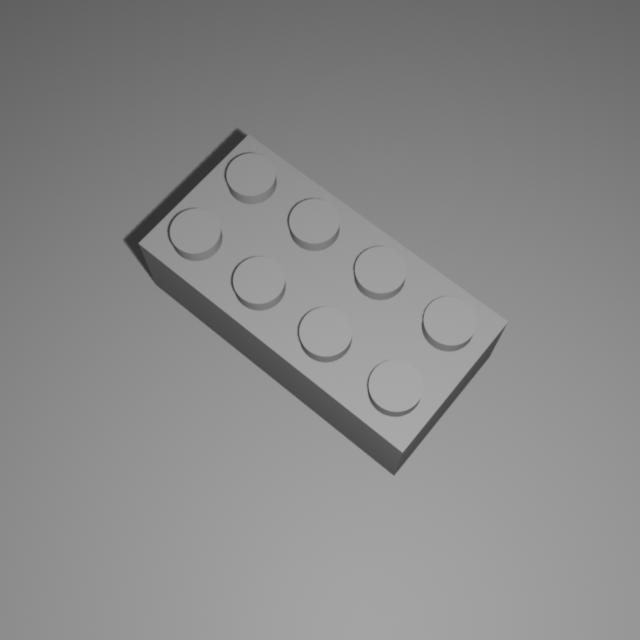lego_2x4: (135, 125, 512, 476)
